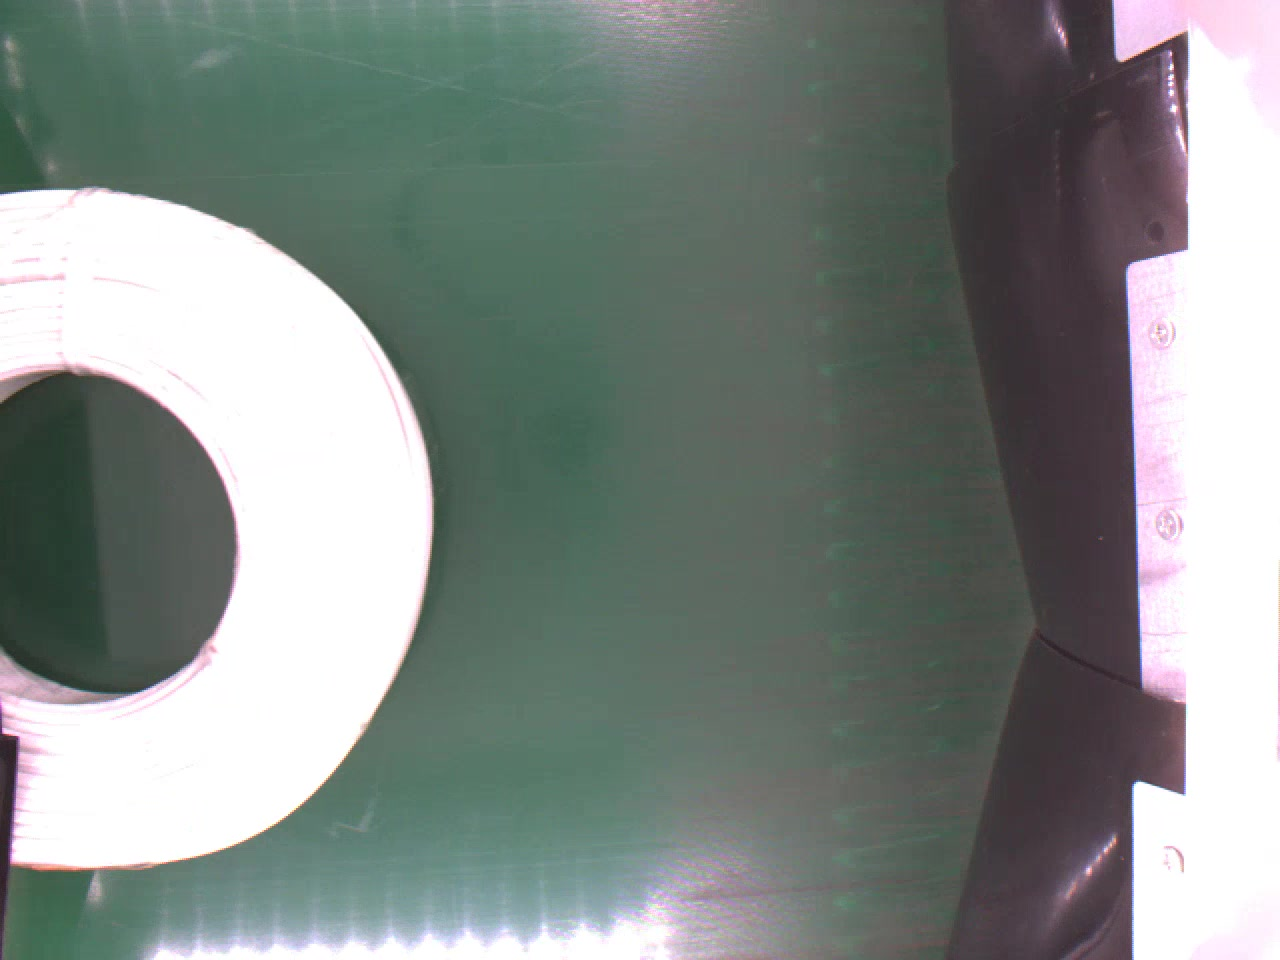white: (0, 181, 440, 871)
